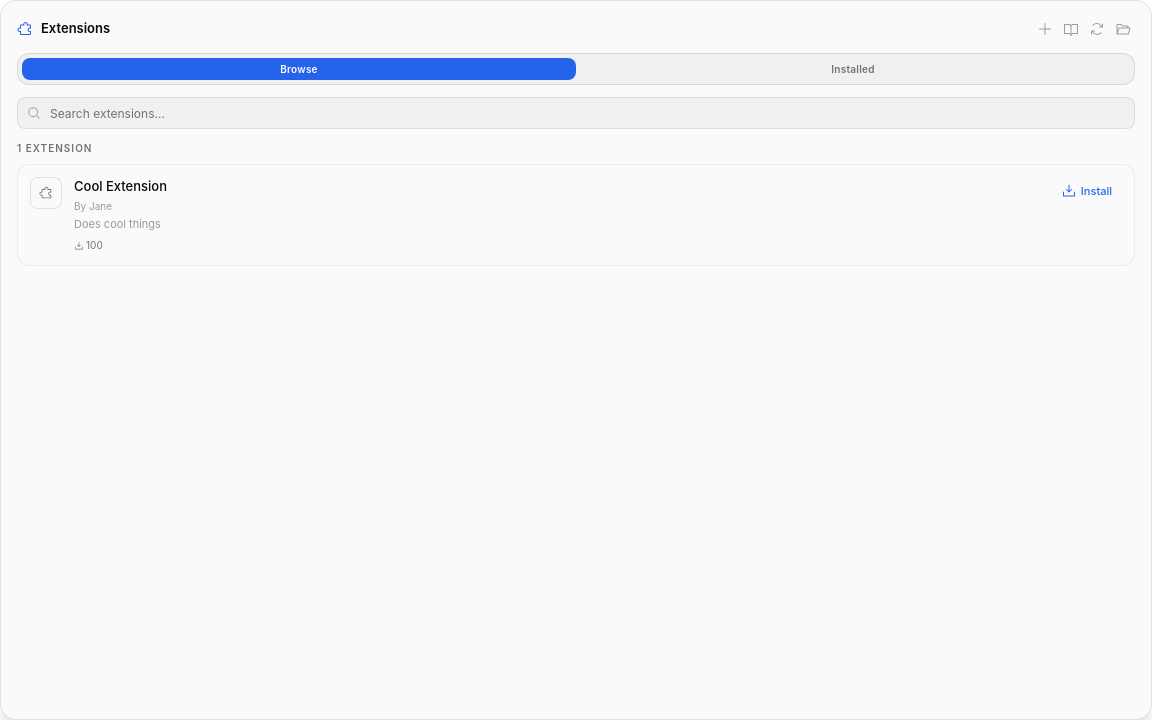
ExtensionManager › opens the detail modal for a marketplace entry without tags or permissions
This screenshot has width=1152, height=720.
Click the text "Cool Extension" at (120, 187), box [74,177,167,196]
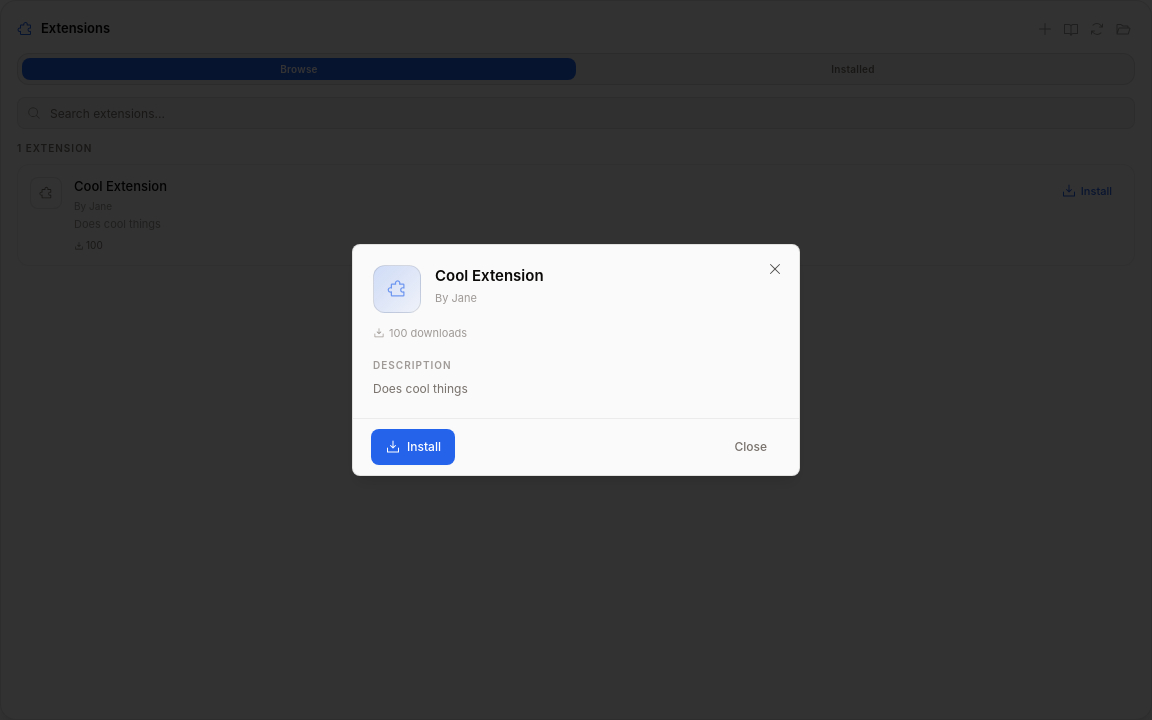
Expected: the dialog is shown, [352,244,800,476]
